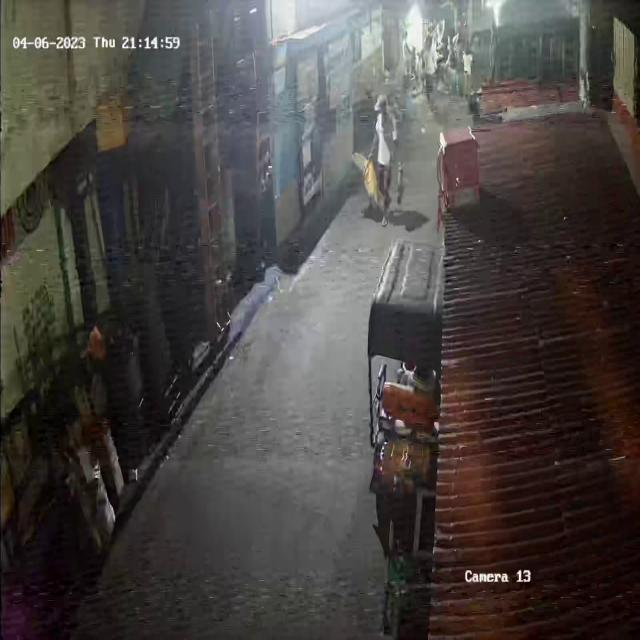garbage_dumping: (346, 141, 384, 220), (390, 154, 410, 208)
